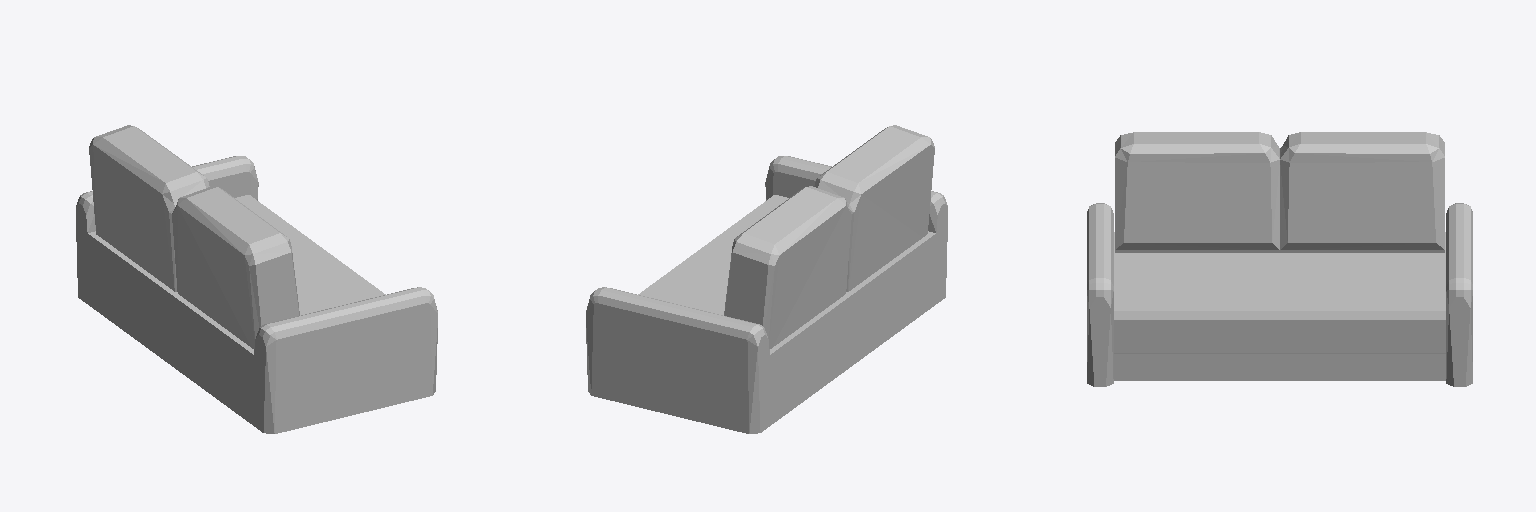
Rendered from Sofa02_yelow.obj.
The picture shows the model from 3 angles: view 1: azimuth 30°, elevation 25°; view 2: azimuth 150°, elevation 25°; view 3: azimuth 270°, elevation 25°; orthographic projection.
Visible parts, largest first — view 1: Sofa02_Yellow_divan.001; view 2: Sofa02_Yellow_divan.001; view 3: Sofa02_Yellow_divan.001.
Boxes of the visible parts, x1,y1,x2,y2 form: Sofa02_Yellow_divan.001: [76, 125, 437, 433]; Sofa02_Yellow_divan.001: [586, 125, 947, 433]; Sofa02_Yellow_divan.001: [1087, 132, 1472, 386].
Size of the model in its own units: 0.9718 by 0.9436 by 1.87.